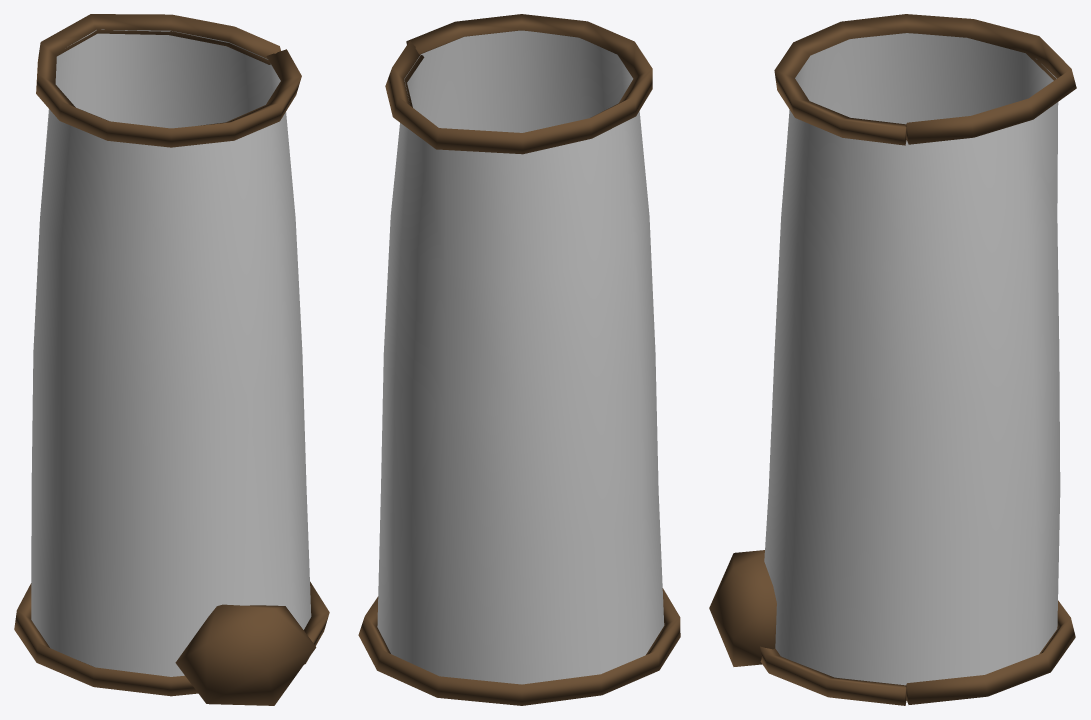
Rendered from timber_armor_greave.R.glb.
The picture shows the model from 3 angles, left to right: view 1: azimuth 30°, elevation 25°; view 2: azimuth 150°, elevation 25°; view 3: azimuth 270°, elevation 25°; orthographic projection. The views are drawn at different scales.
Visible parts, largest first — view 1: timber_armor_greave.R; view 2: timber_armor_greave.R; view 3: timber_armor_greave.R.
Boxes of the visible parts, x1,y1,x2,y2 form: timber_armor_greave.R: [14, 14, 329, 705]; timber_armor_greave.R: [358, 14, 680, 705]; timber_armor_greave.R: [709, 14, 1076, 705].
Bounding box in the file's own units: 0.1998 × 0.4044 × 0.2286.
